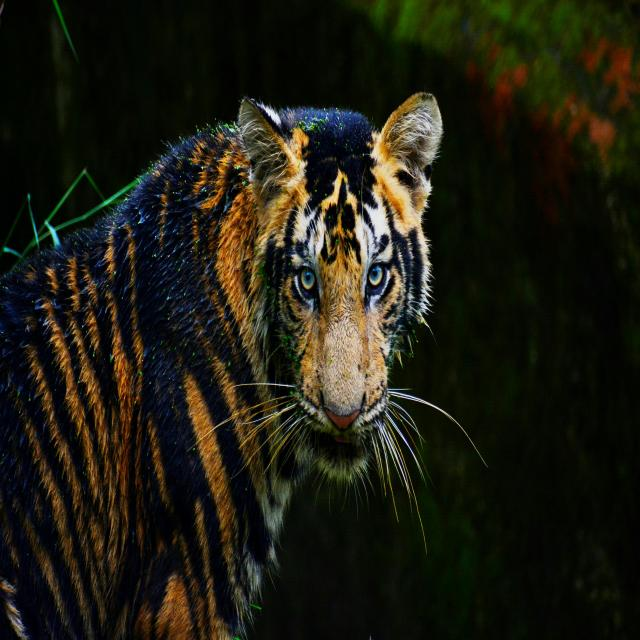Tiger: (0, 87, 445, 640)
